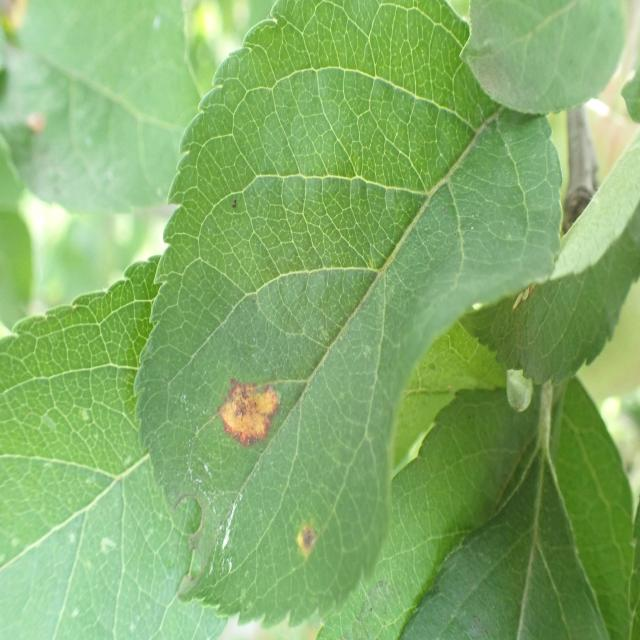rust: (134, 0, 563, 630)
